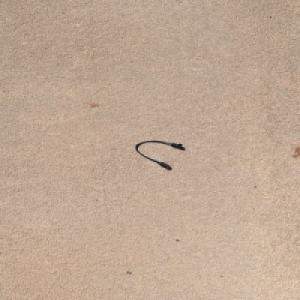Wire: (134, 140, 182, 168)
